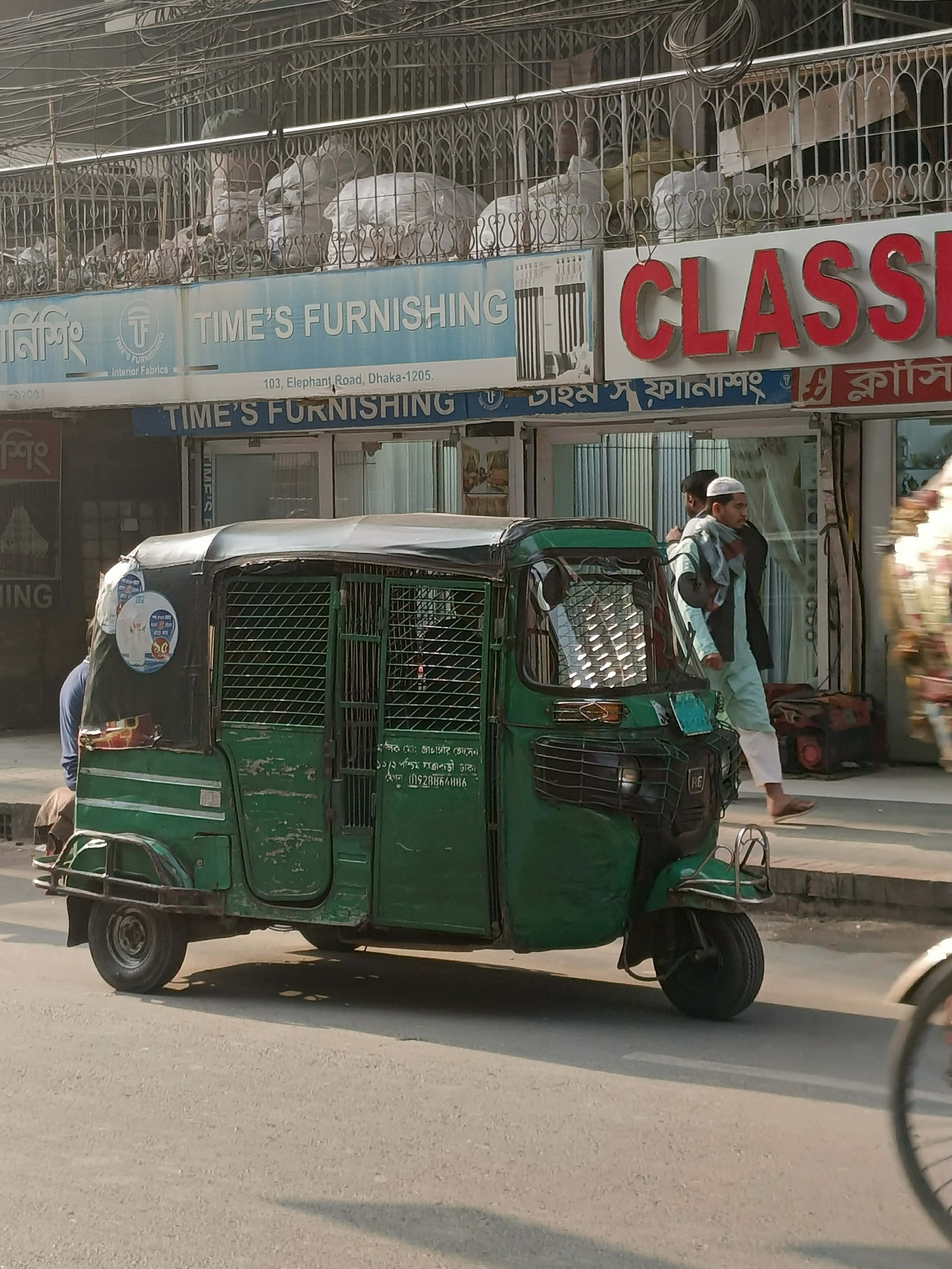cng: (53, 491, 822, 1037)
